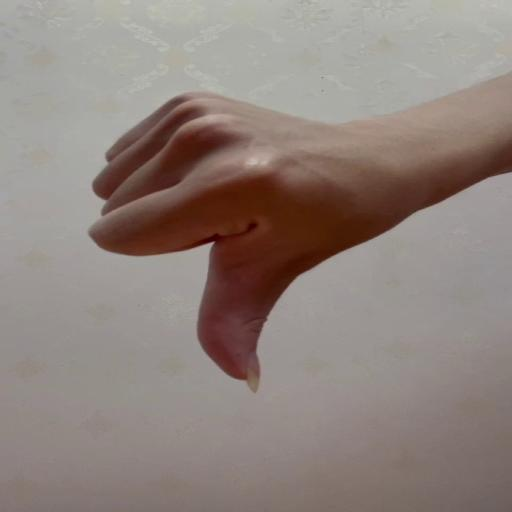thumbs_down: (87, 88, 381, 394)
